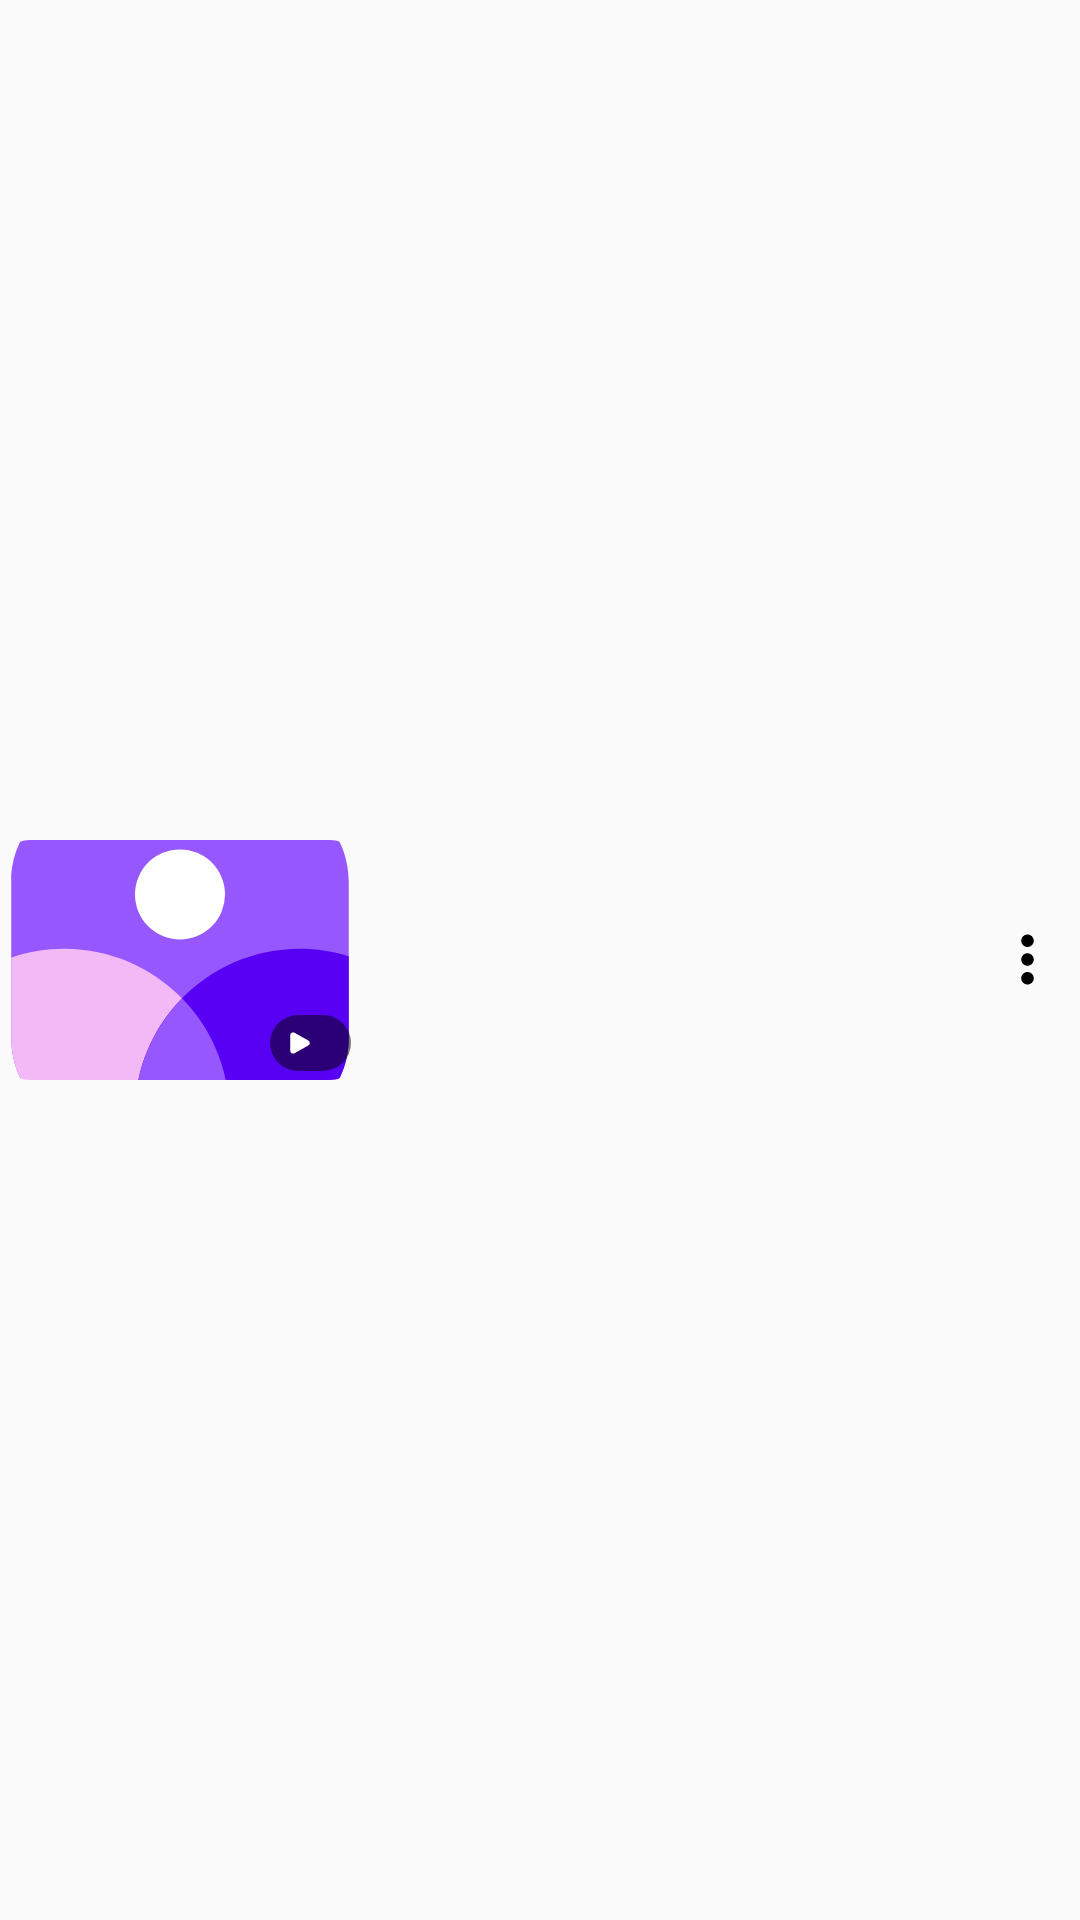

Icons on this 1080w x 1920h Android screen, each with the point to tap as (x=x, y=y):
video more image: (x=1027, y=959)
